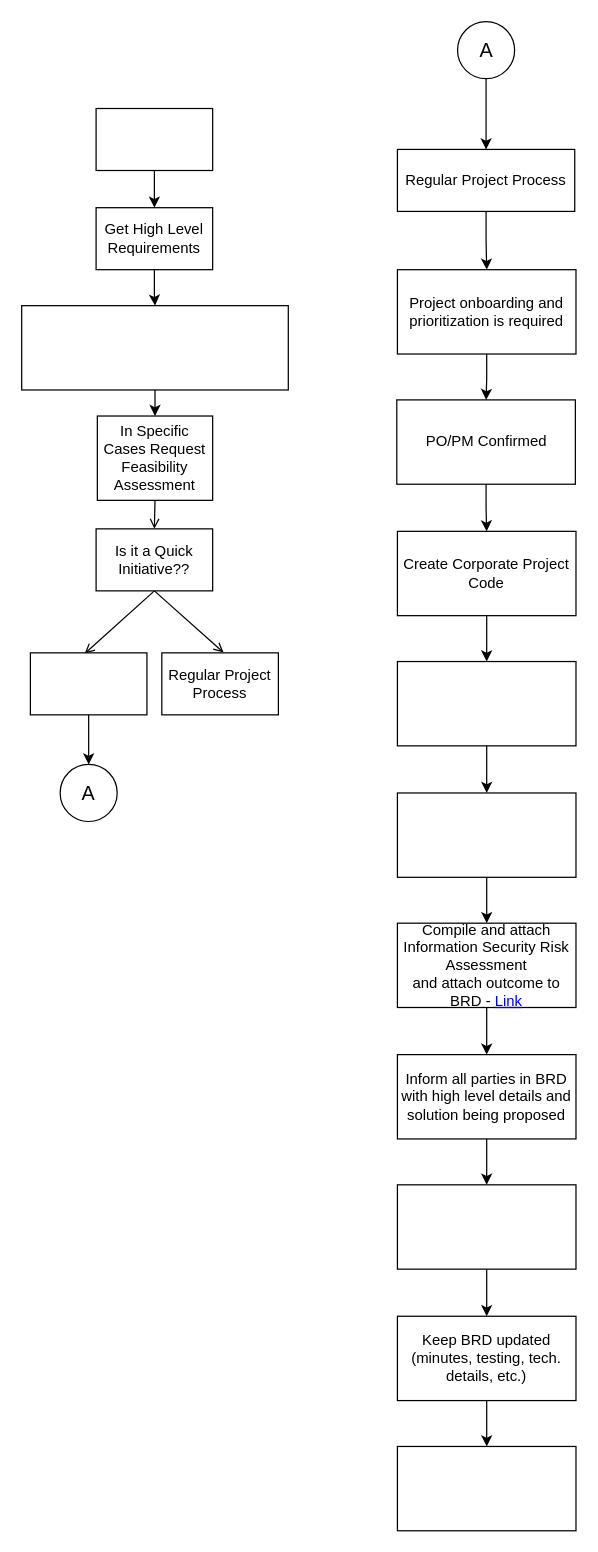
Image size: 598x1552. Some labels were removed from this diagram. Here are the shapes that lost their labels. From the top down, the box of each, then its label:
(95, 107, 213, 170): Project Request
(20, 304, 288, 390): Document Project Request and High Level Requirements Link
(29, 652, 147, 715): Quick Initiative Process
(396, 660, 576, 746): Create project page with BRD via Template
(396, 792, 576, 877): Detailed analysis with architects for final solution
(396, 1184, 576, 1269): Share BRD link with project sponsor
(396, 1445, 576, 1531): Communicate project closure with sponsor and close off BRD
